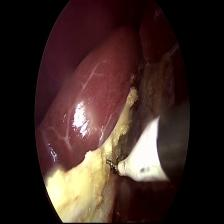Hook: (104, 116, 171, 190)
